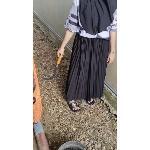Celurit: (40, 47, 68, 82)
